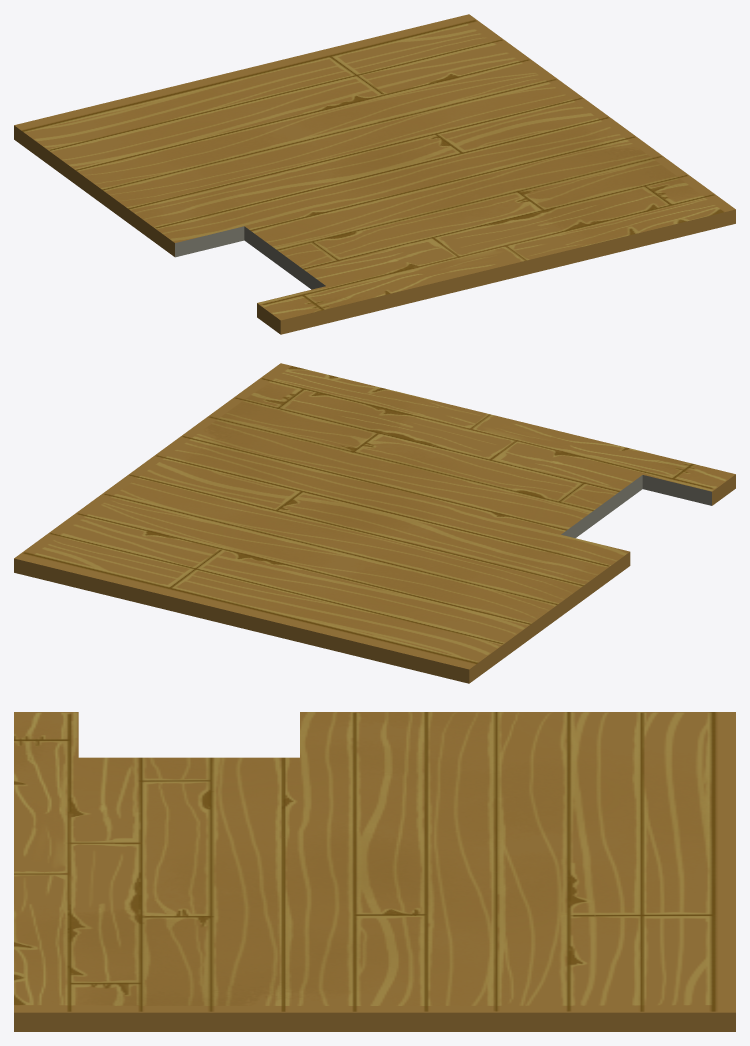
Rendered from Piso4.obj.
3 views of the same model, one above another, from view 1: azimuth 30°, elevation 25°; view 2: azimuth 150°, elevation 25°; view 3: azimuth 270°, elevation 25° (orthographic). The views are drawn at different scales.
Parts seen in each view (by area): view 1: pCube452; view 2: pCube452; view 3: pCube452.
Boxes of the visible parts, x1,y1,x2,y2 form: pCube452: (14,14,735,334); pCube452: (14,363,735,683); pCube452: (14,712,735,1031).
Size of the model in its own units: 7.23 by 0.2166 by 7.33.
Materials: 2 (2 with a texture image).
